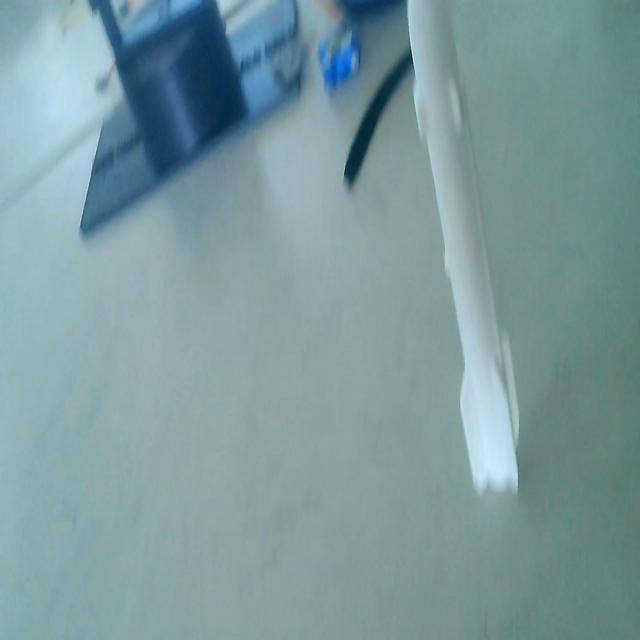Rocket: (401, 0, 526, 498)
